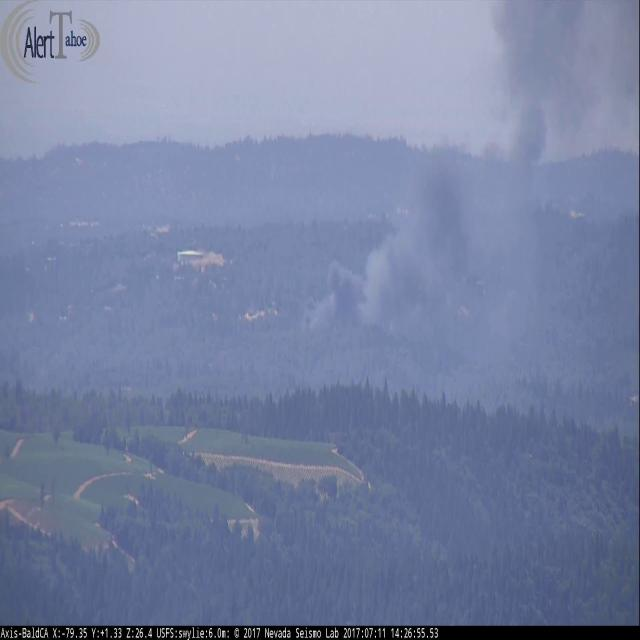smoke: (302, 0, 640, 344)
